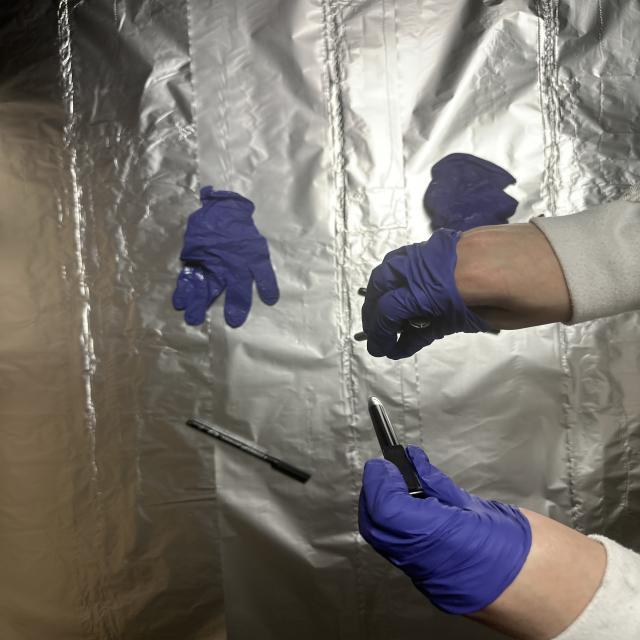glove_partial: (356, 444, 610, 640), (363, 221, 581, 362)
